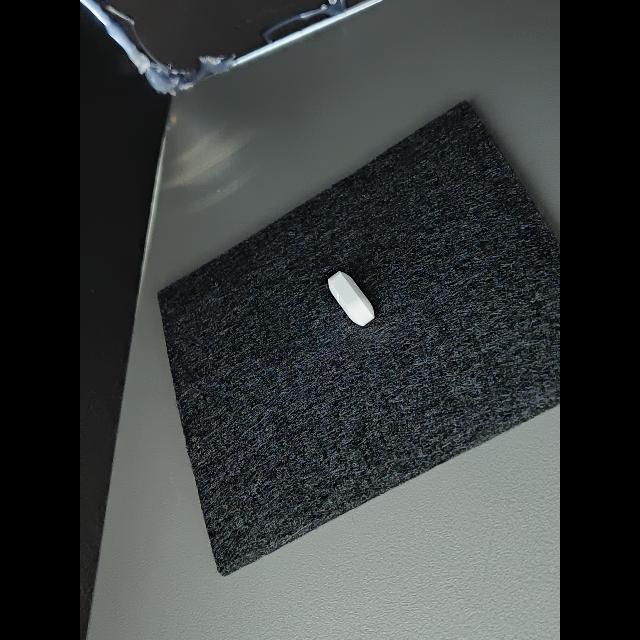Intact Pill: (328, 271, 375, 326)
